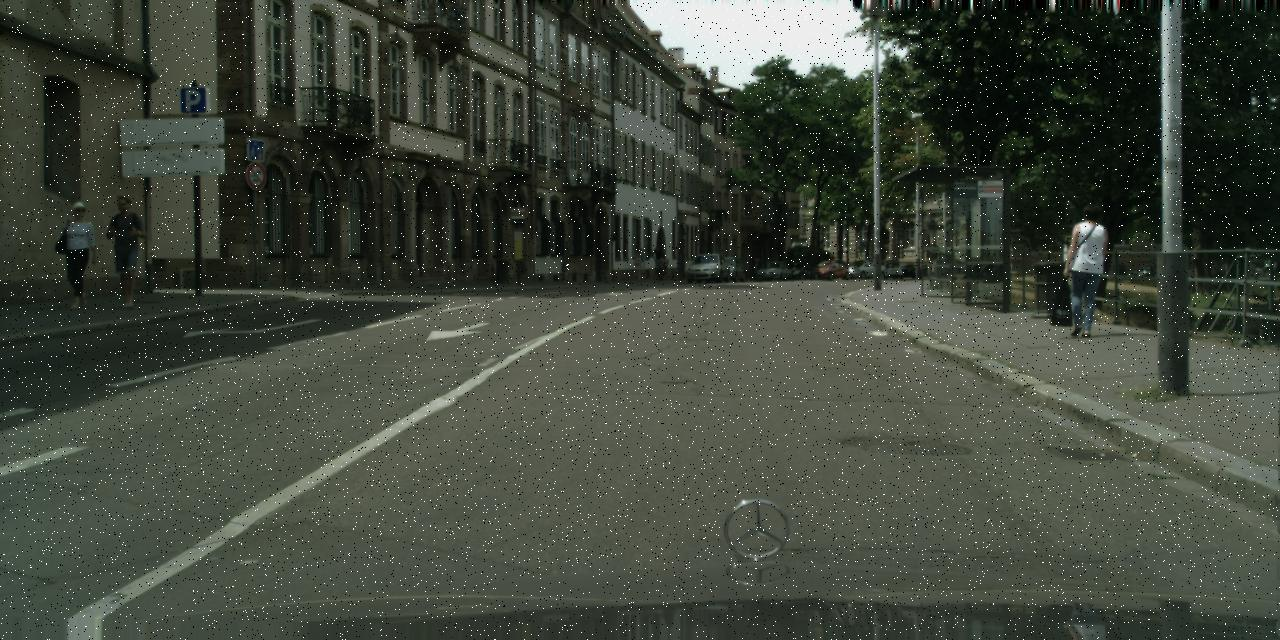ped: (1059, 204, 1113, 336), (103, 196, 148, 306), (57, 201, 101, 308), (634, 246, 647, 280), (652, 247, 664, 277), (790, 267, 795, 280)
